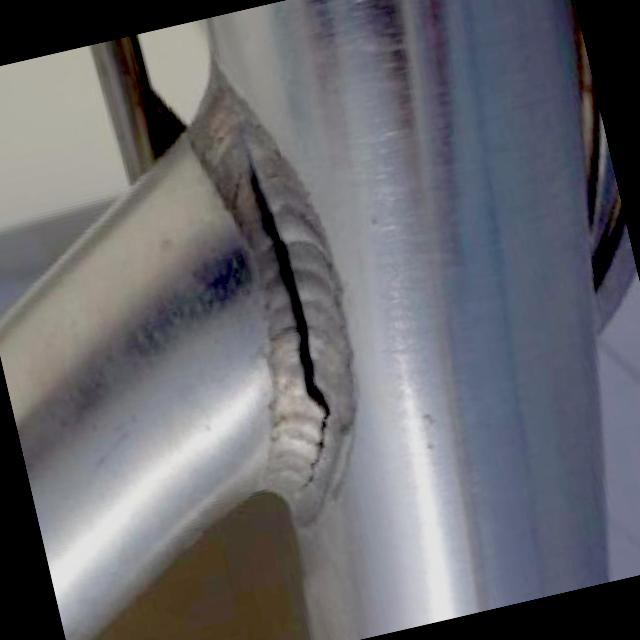crack: (233, 131, 340, 505)
